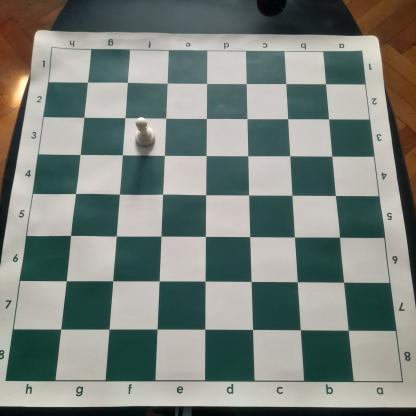white-pawn: (132, 116, 158, 151)
